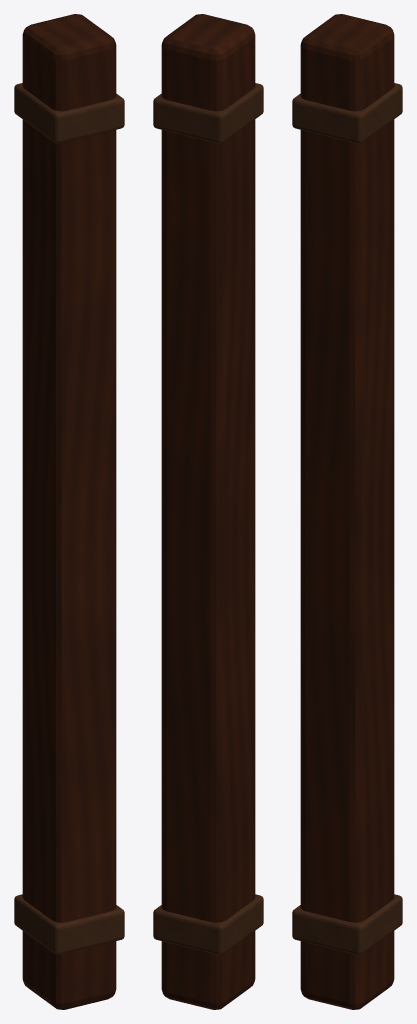
The model's file is timber.glb.
3 renders of one model, left to right at view 1: azimuth 30°, elevation 25°; view 2: azimuth 150°, elevation 25°; view 3: azimuth 330°, elevation 25°, orthographic.
Parts seen in each view (by area): view 1: Oiled_walnut, Patinated_bronze; view 2: Oiled_walnut, Patinated_bronze; view 3: Oiled_walnut, Patinated_bronze.
Part boxes in pixels (bbox=[...]): Oiled_walnut: bbox=[22, 14, 116, 1009]; Patinated_bronze: bbox=[14, 83, 124, 954]; Oiled_walnut: bbox=[161, 14, 255, 1009]; Patinated_bronze: bbox=[153, 83, 263, 954]; Oiled_walnut: bbox=[300, 14, 394, 1009]; Patinated_bronze: bbox=[292, 83, 402, 954].
Size of the model in its own units: 0.29 by 3.8 by 0.31.
Materials: 2 (2 with a texture image).
